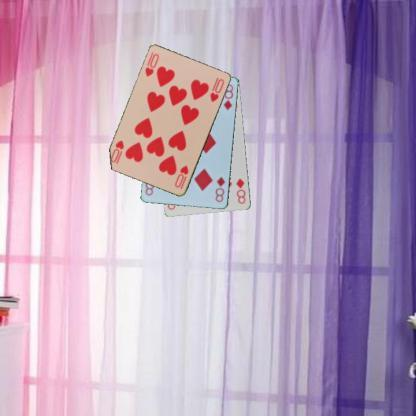10h: (142, 51, 160, 78), (172, 163, 190, 189)
8d: (233, 176, 247, 206), (212, 174, 226, 204)
